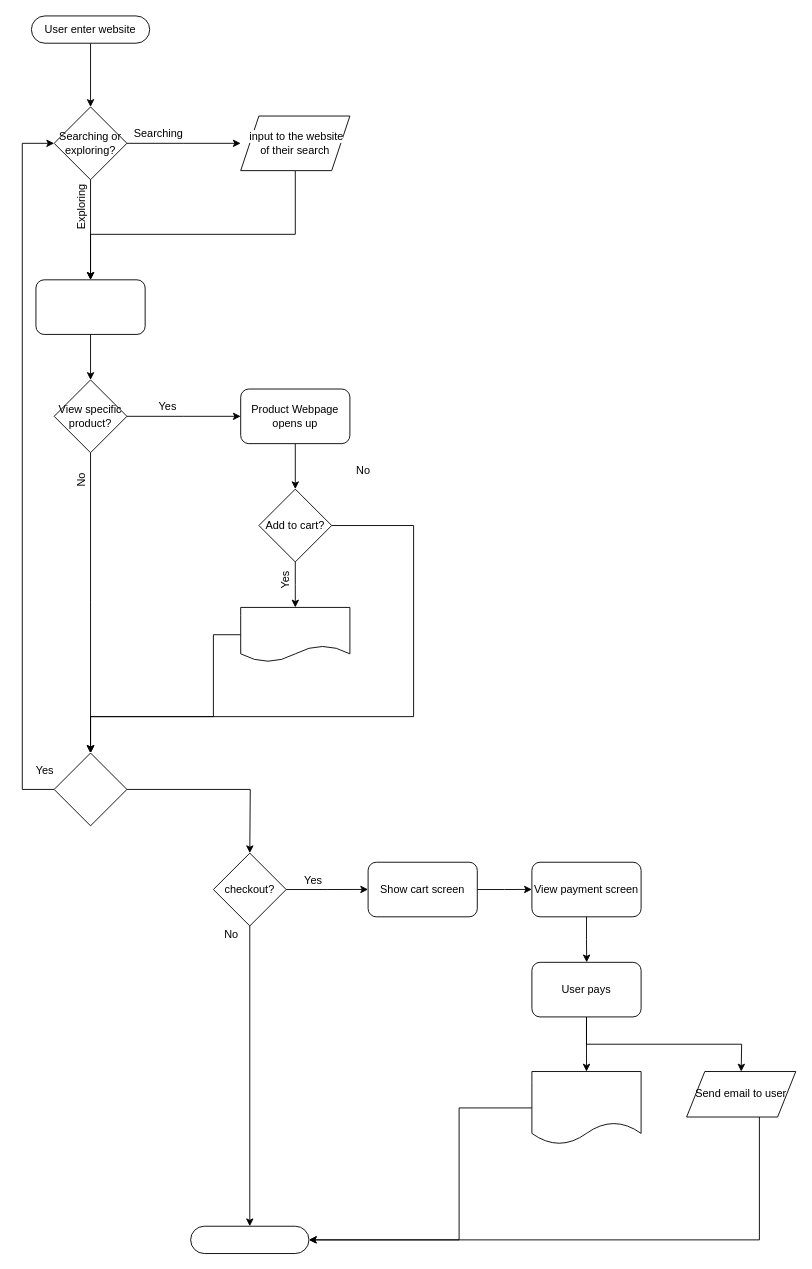
Image size: 812x1269. Some labels were removed from this diagram. Here are the shapes that lost their labels. From the top down, the centre of each, then its label:
At point 90,306: "Print out list of products for user to view".
At point 295,634: "Output added to cart confirmation".
At point 90,789: "continue shopping?".
At point 586,1107: "Order confirmation to screen".
At point 249,1239: "User leaves website".
